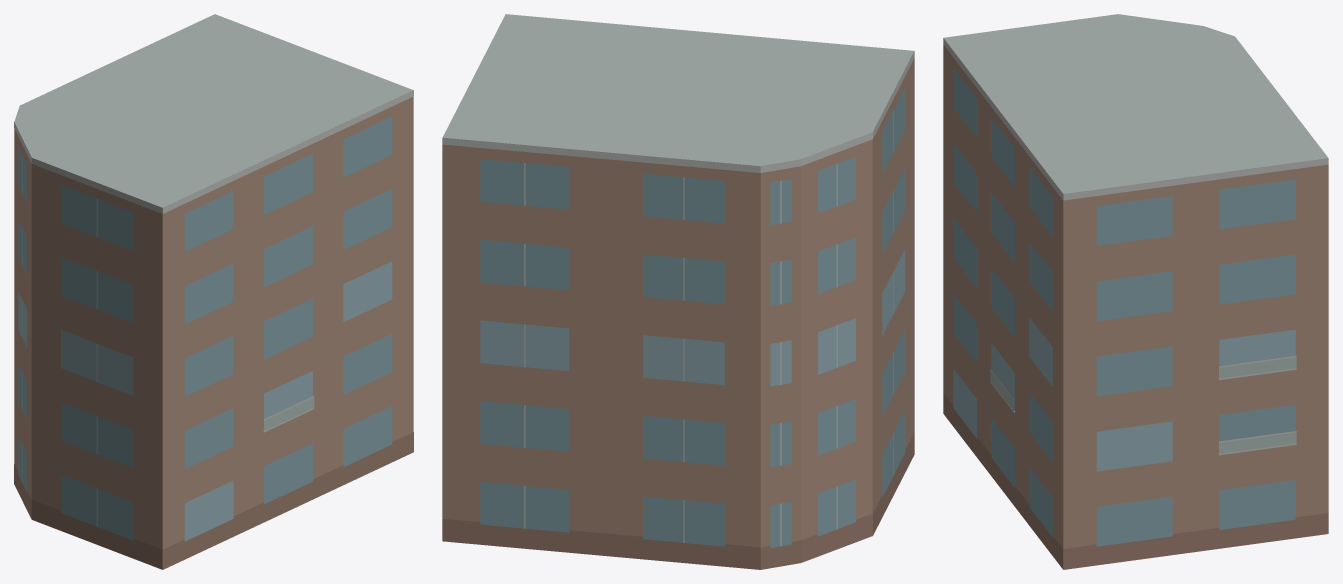
Rendered from survey-upis-32621294.glb.
3 views of the same model, side by side, from view 1: azimuth 30°, elevation 25°; view 2: azimuth 150°, elevation 25°; view 3: azimuth 270°, elevation 25° (orthographic). The views are drawn at different scales.
Visible parts, largest first — view 1: survey-upis-32621294.tmp; view 2: survey-upis-32621294.tmp; view 3: survey-upis-32621294.tmp.
Boxes of the visible parts, box(x1,y1,x2,y2) form: survey-upis-32621294.tmp: box(14, 14, 413, 569); survey-upis-32621294.tmp: box(442, 14, 914, 569); survey-upis-32621294.tmp: box(943, 14, 1328, 569).
Bounding box in the file's own units: 14.71 × 14.3 × 13.3.
